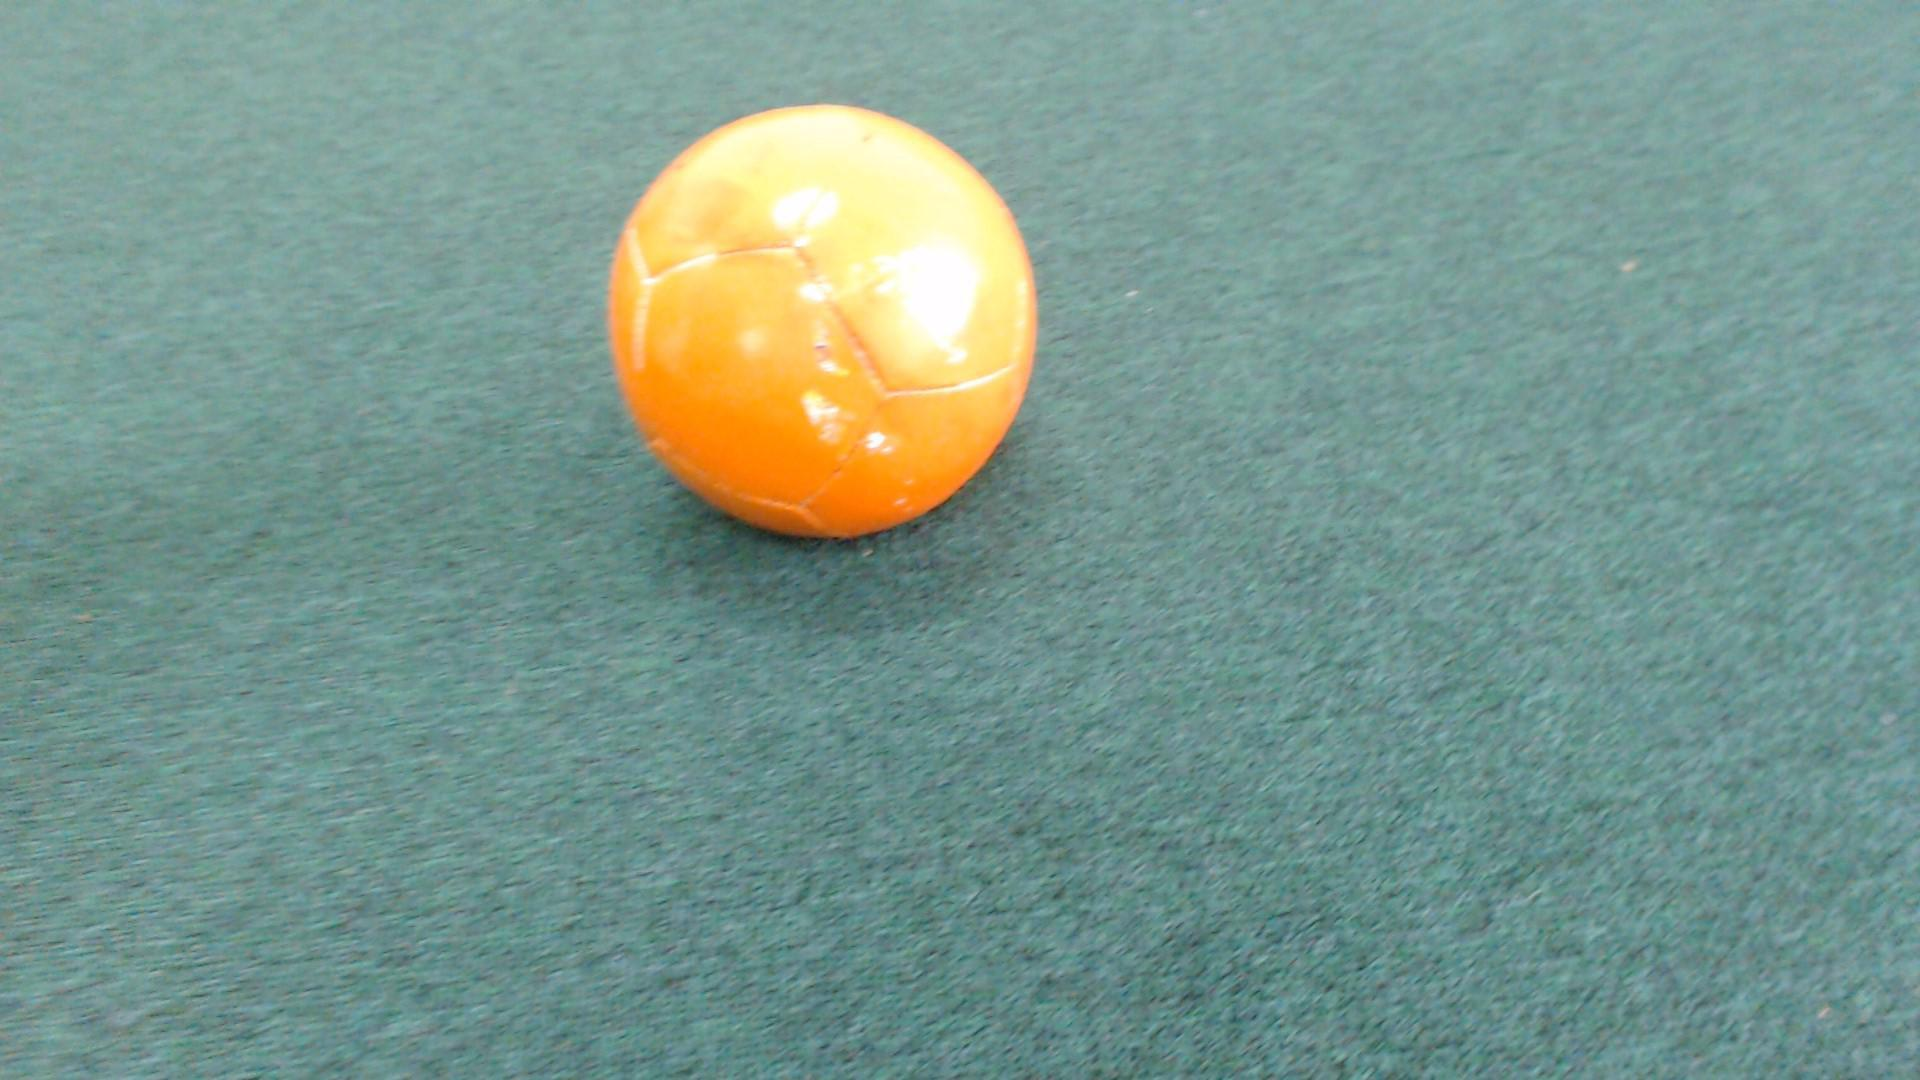bola: (591, 98, 1050, 550)
